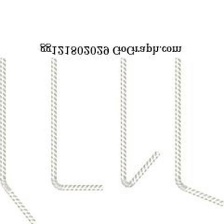drinking_straw: (44, 56, 106, 197), (169, 55, 224, 210), (113, 54, 164, 192), (0, 54, 38, 223)
